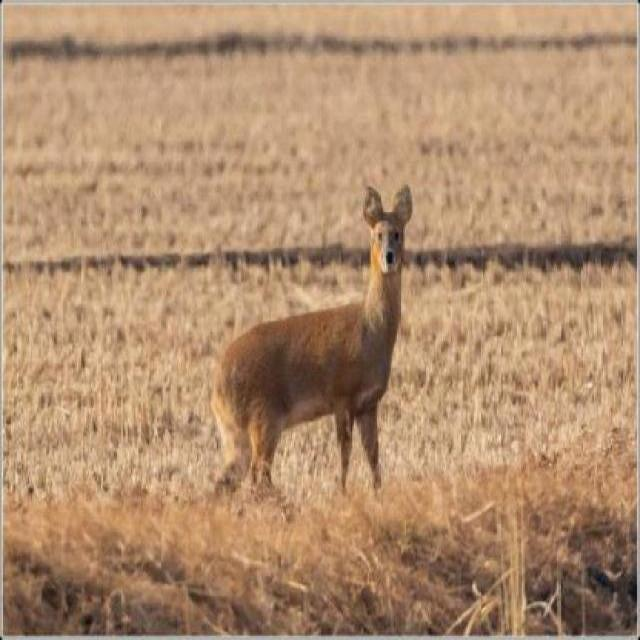deer: (202, 182, 424, 507)
